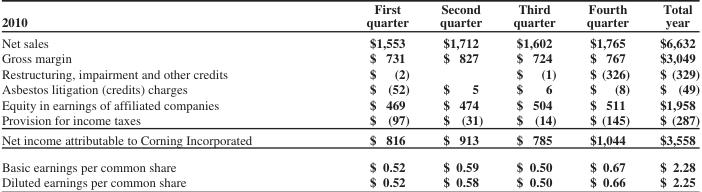table: (0, 1, 698, 189)
table column: (0, 1, 308, 189), (308, 1, 423, 189), (423, 1, 497, 189), (570, 1, 644, 189), (497, 1, 570, 189), (644, 1, 698, 189)
table column header: (0, 1, 698, 31)
table row: (0, 1, 698, 31), (0, 129, 698, 152), (0, 152, 698, 174), (0, 31, 698, 50), (0, 112, 698, 129), (0, 65, 698, 81), (0, 96, 698, 112), (0, 50, 698, 65), (0, 81, 698, 96), (0, 174, 698, 189)
